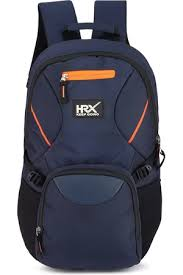backpack: (16, 0, 165, 270)
